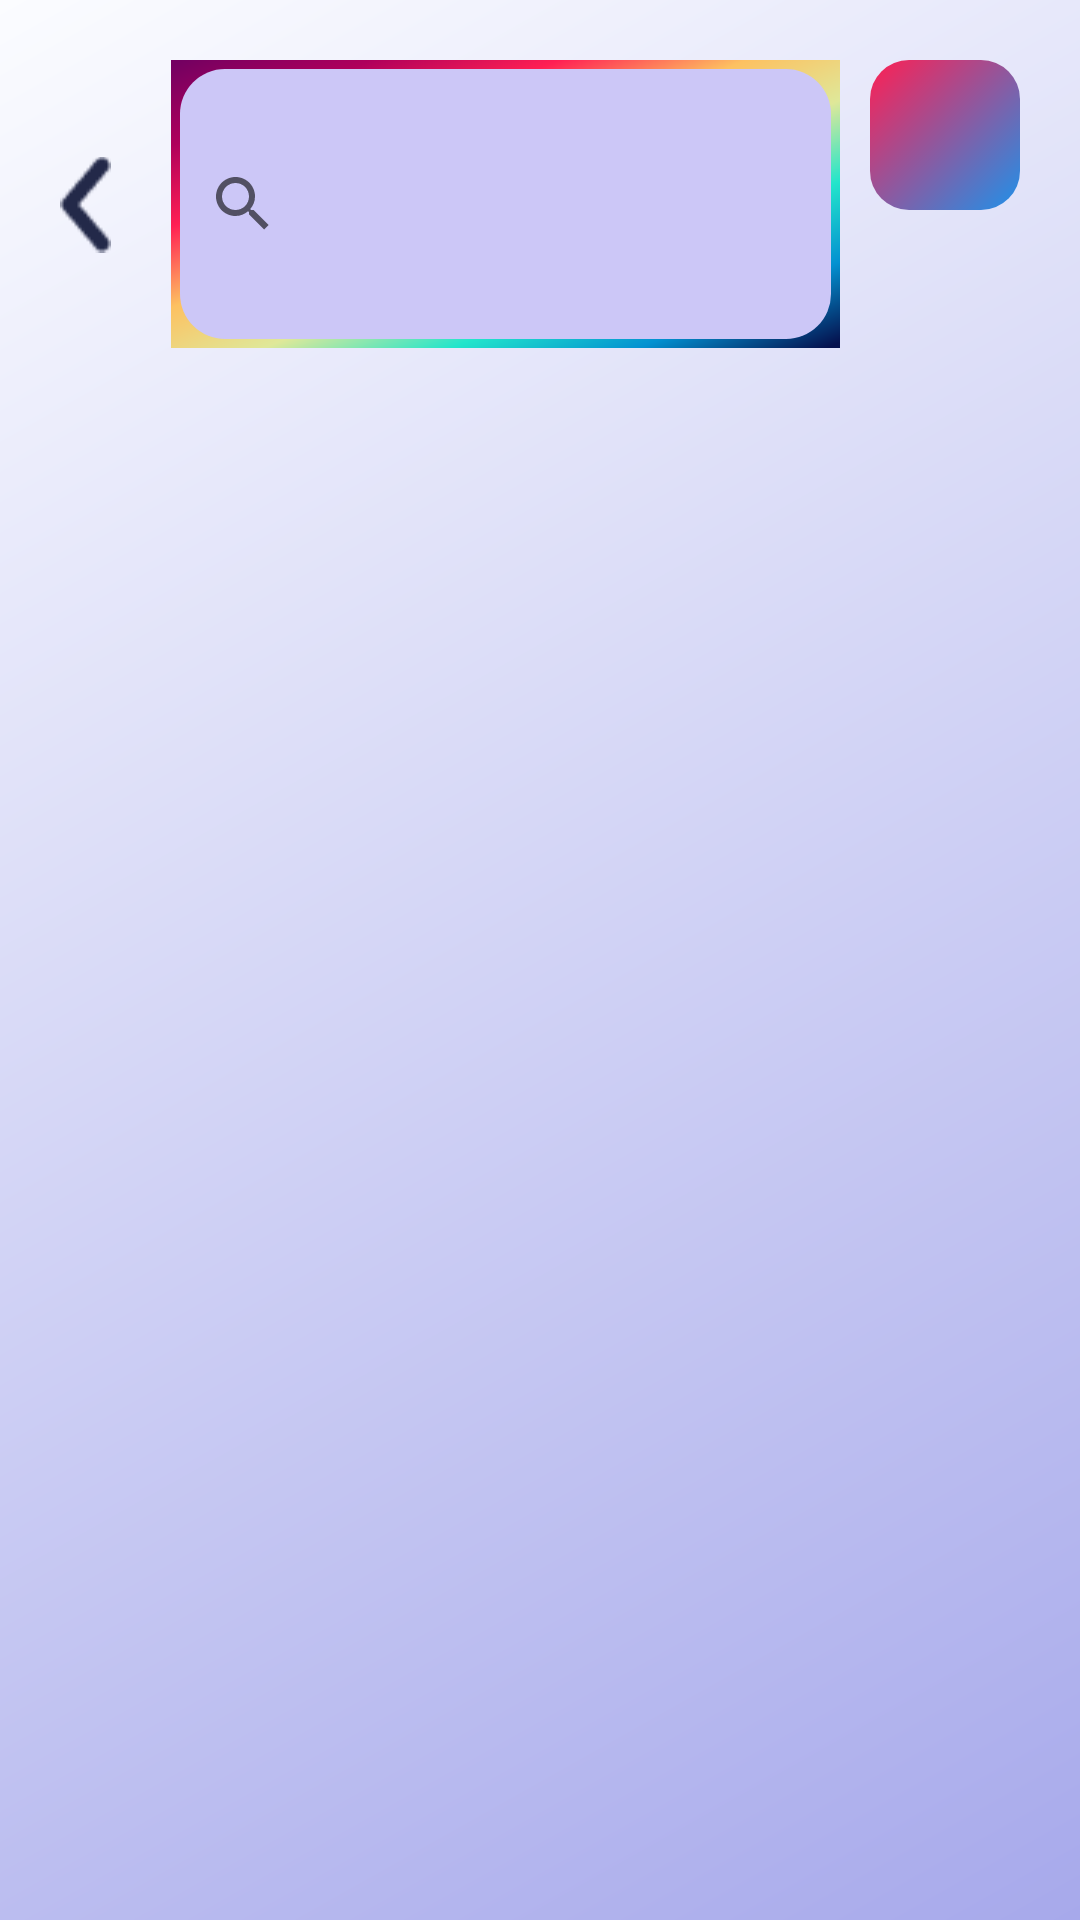

Locate icon controls on the screen. Image size 1080 × 1920, boxes as [x1=x1, y1=y1, x2=x2, y2=y2].
back: [x1=60, y1=157, x2=111, y2=253]
